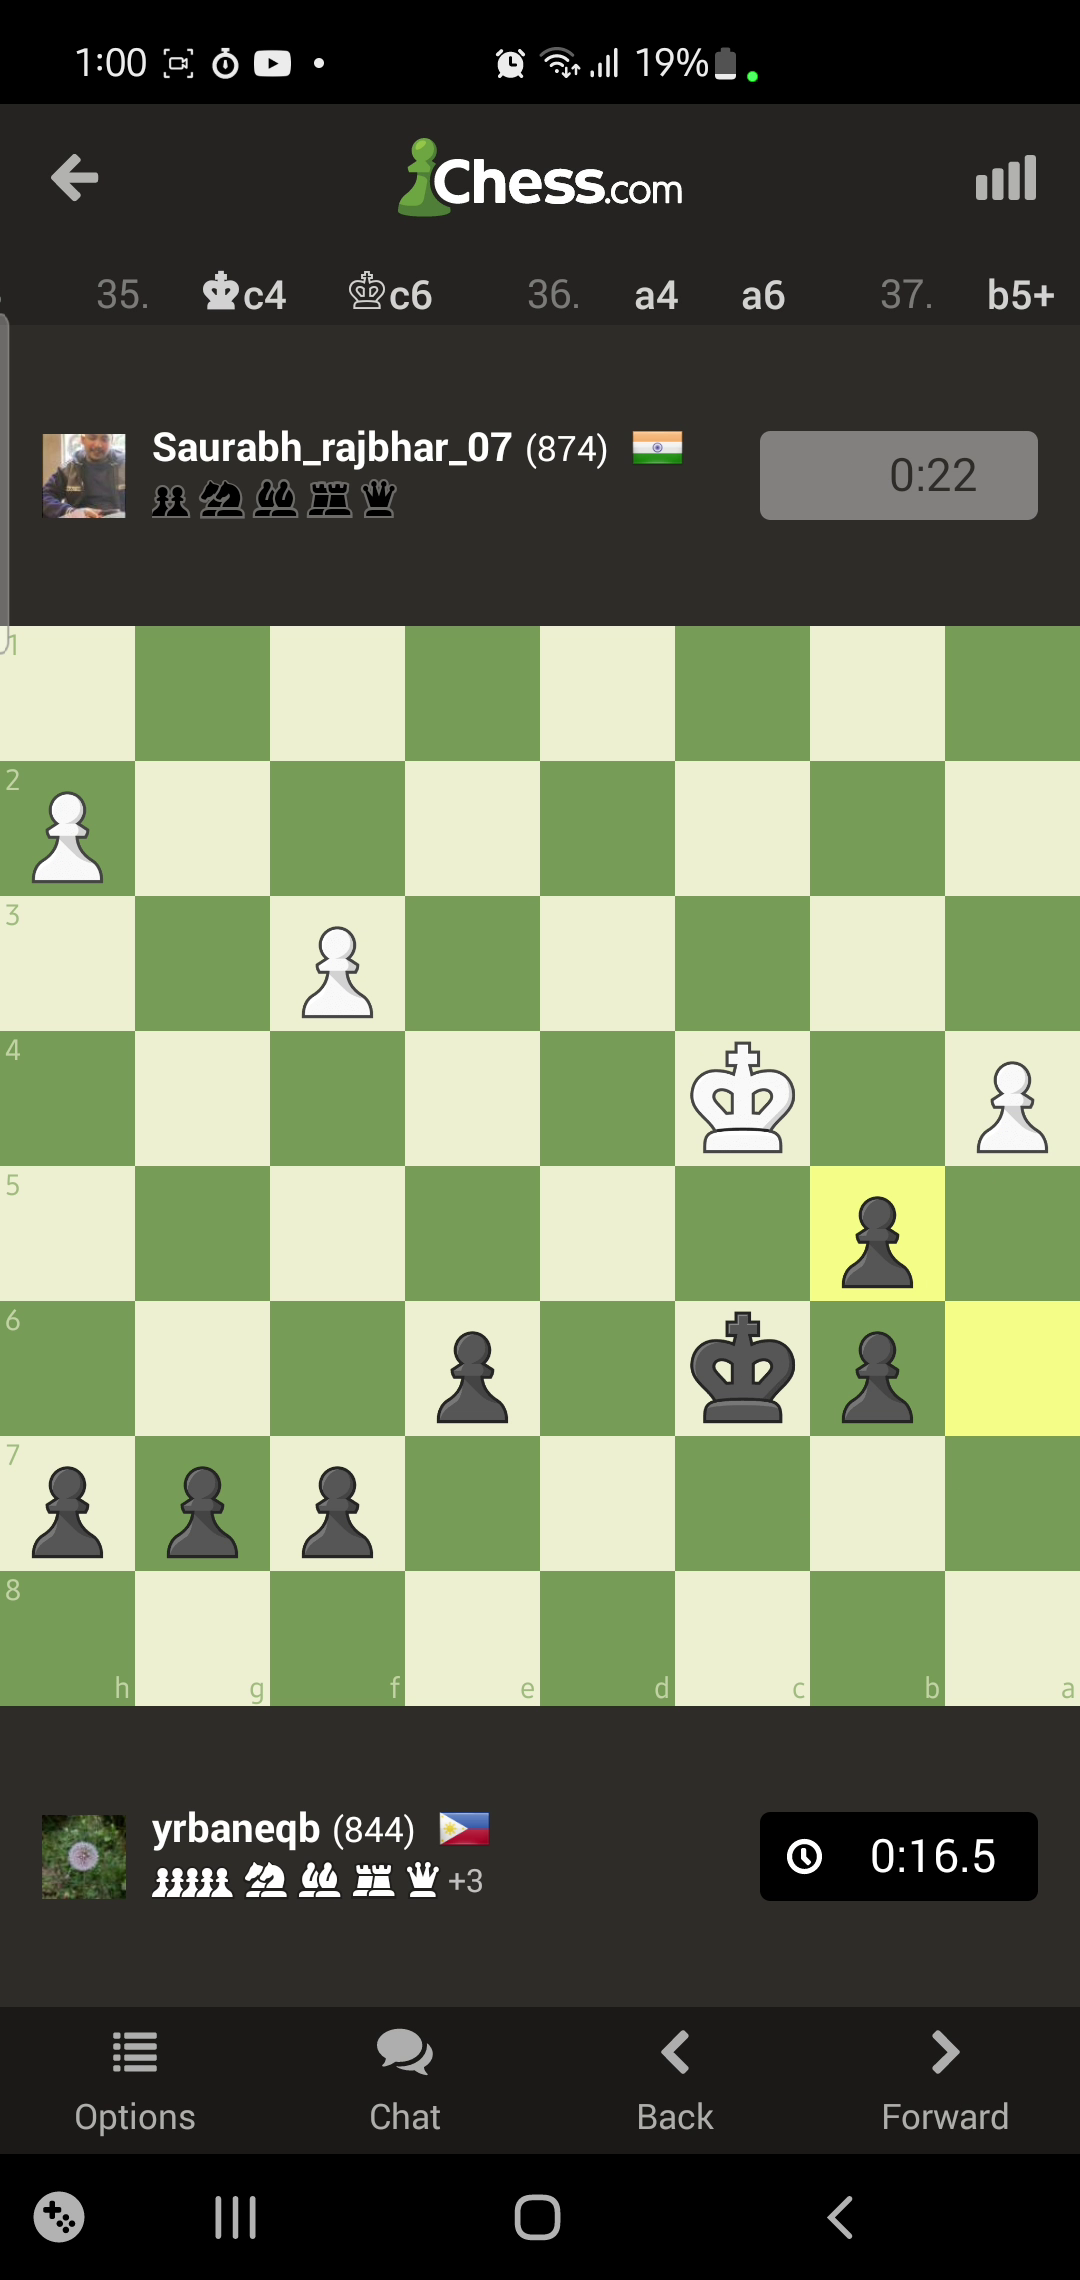king: (690, 1038, 794, 1157), (693, 1306, 794, 1422)
